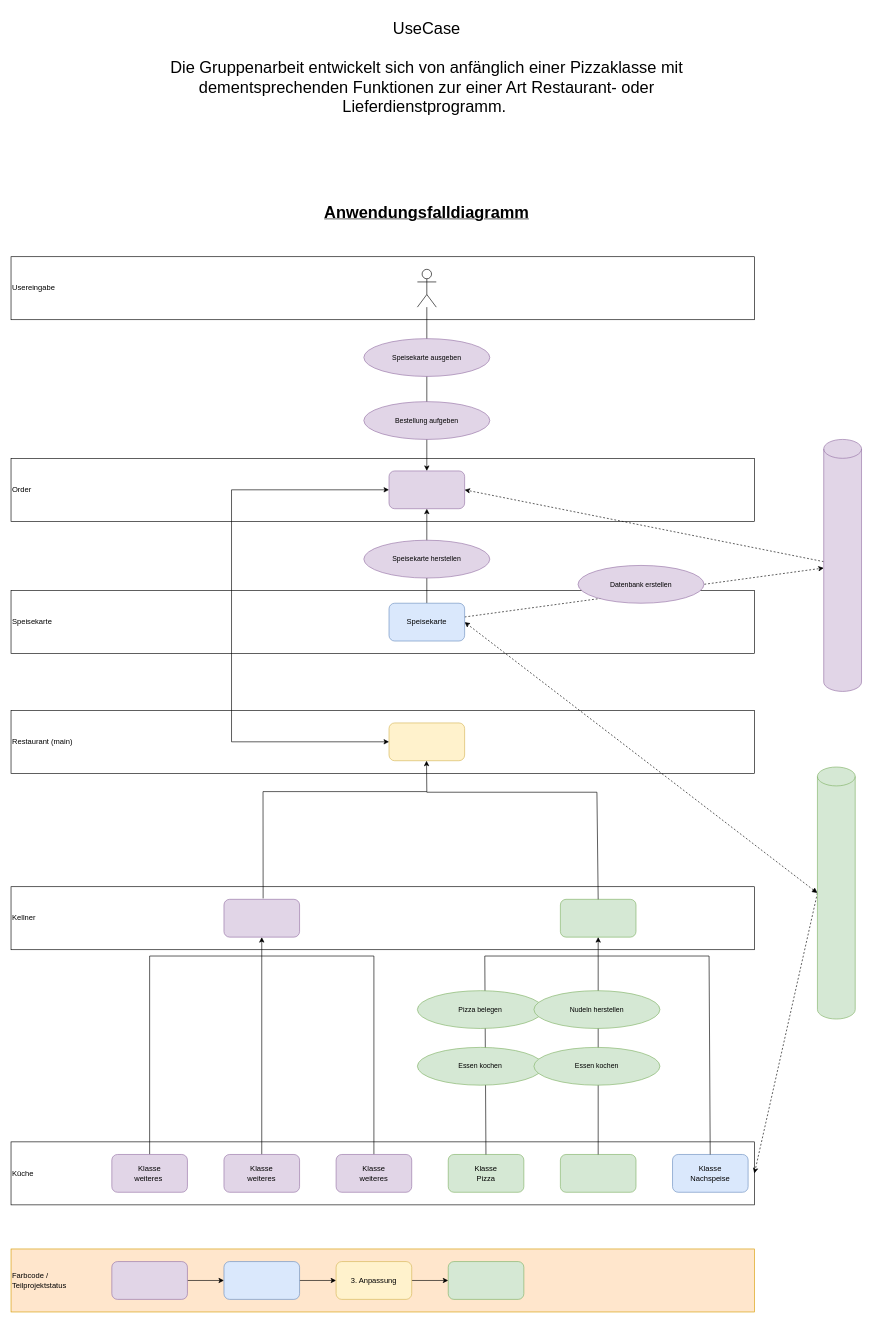
Image size: 873x1323. Some labels were removed from this diagram. The centre of each missing label's shape, as x and y in pixels:
1. Idee: [149,1280]
2. Planung: [261,1280]
4. realisiert: [486,1280]
Actor: [426,288]
Bestellung: [426,489]
Datenbank: [836,892]
Klasse Italienisches_Essen: [598,918]
Klasse Nudeln: [598,1173]
Klasse weiteres Essen: [261,918]
main: [426,741]
Speisekarte DB: [842,565]
